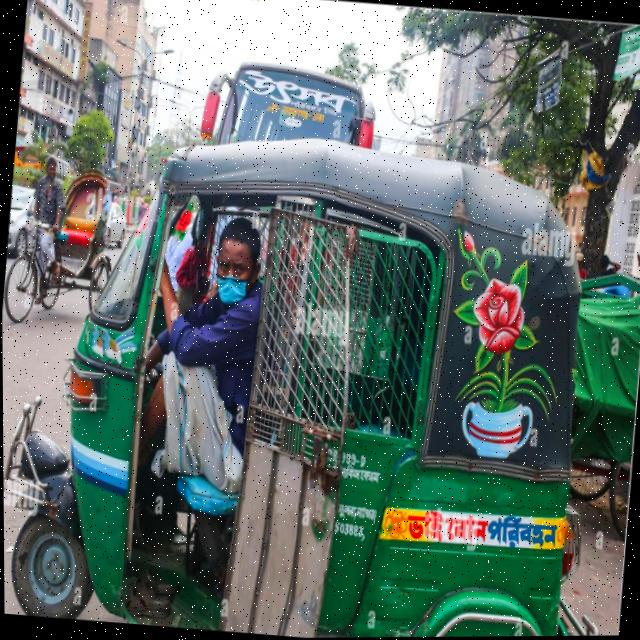cng: (60, 109, 640, 640)
